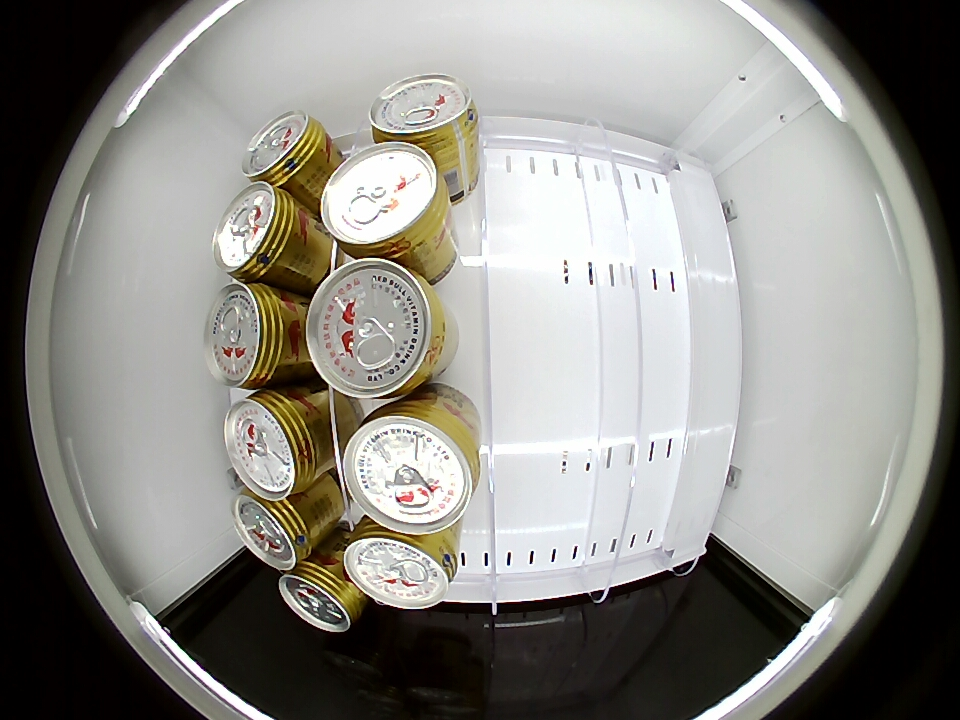hongniu2: (306, 258, 448, 400), (344, 399, 481, 534), (321, 142, 449, 261), (224, 390, 325, 499), (344, 522, 459, 610), (205, 282, 298, 389), (213, 182, 304, 282), (369, 73, 477, 151), (232, 492, 318, 572), (242, 110, 327, 187), (278, 558, 364, 632)
